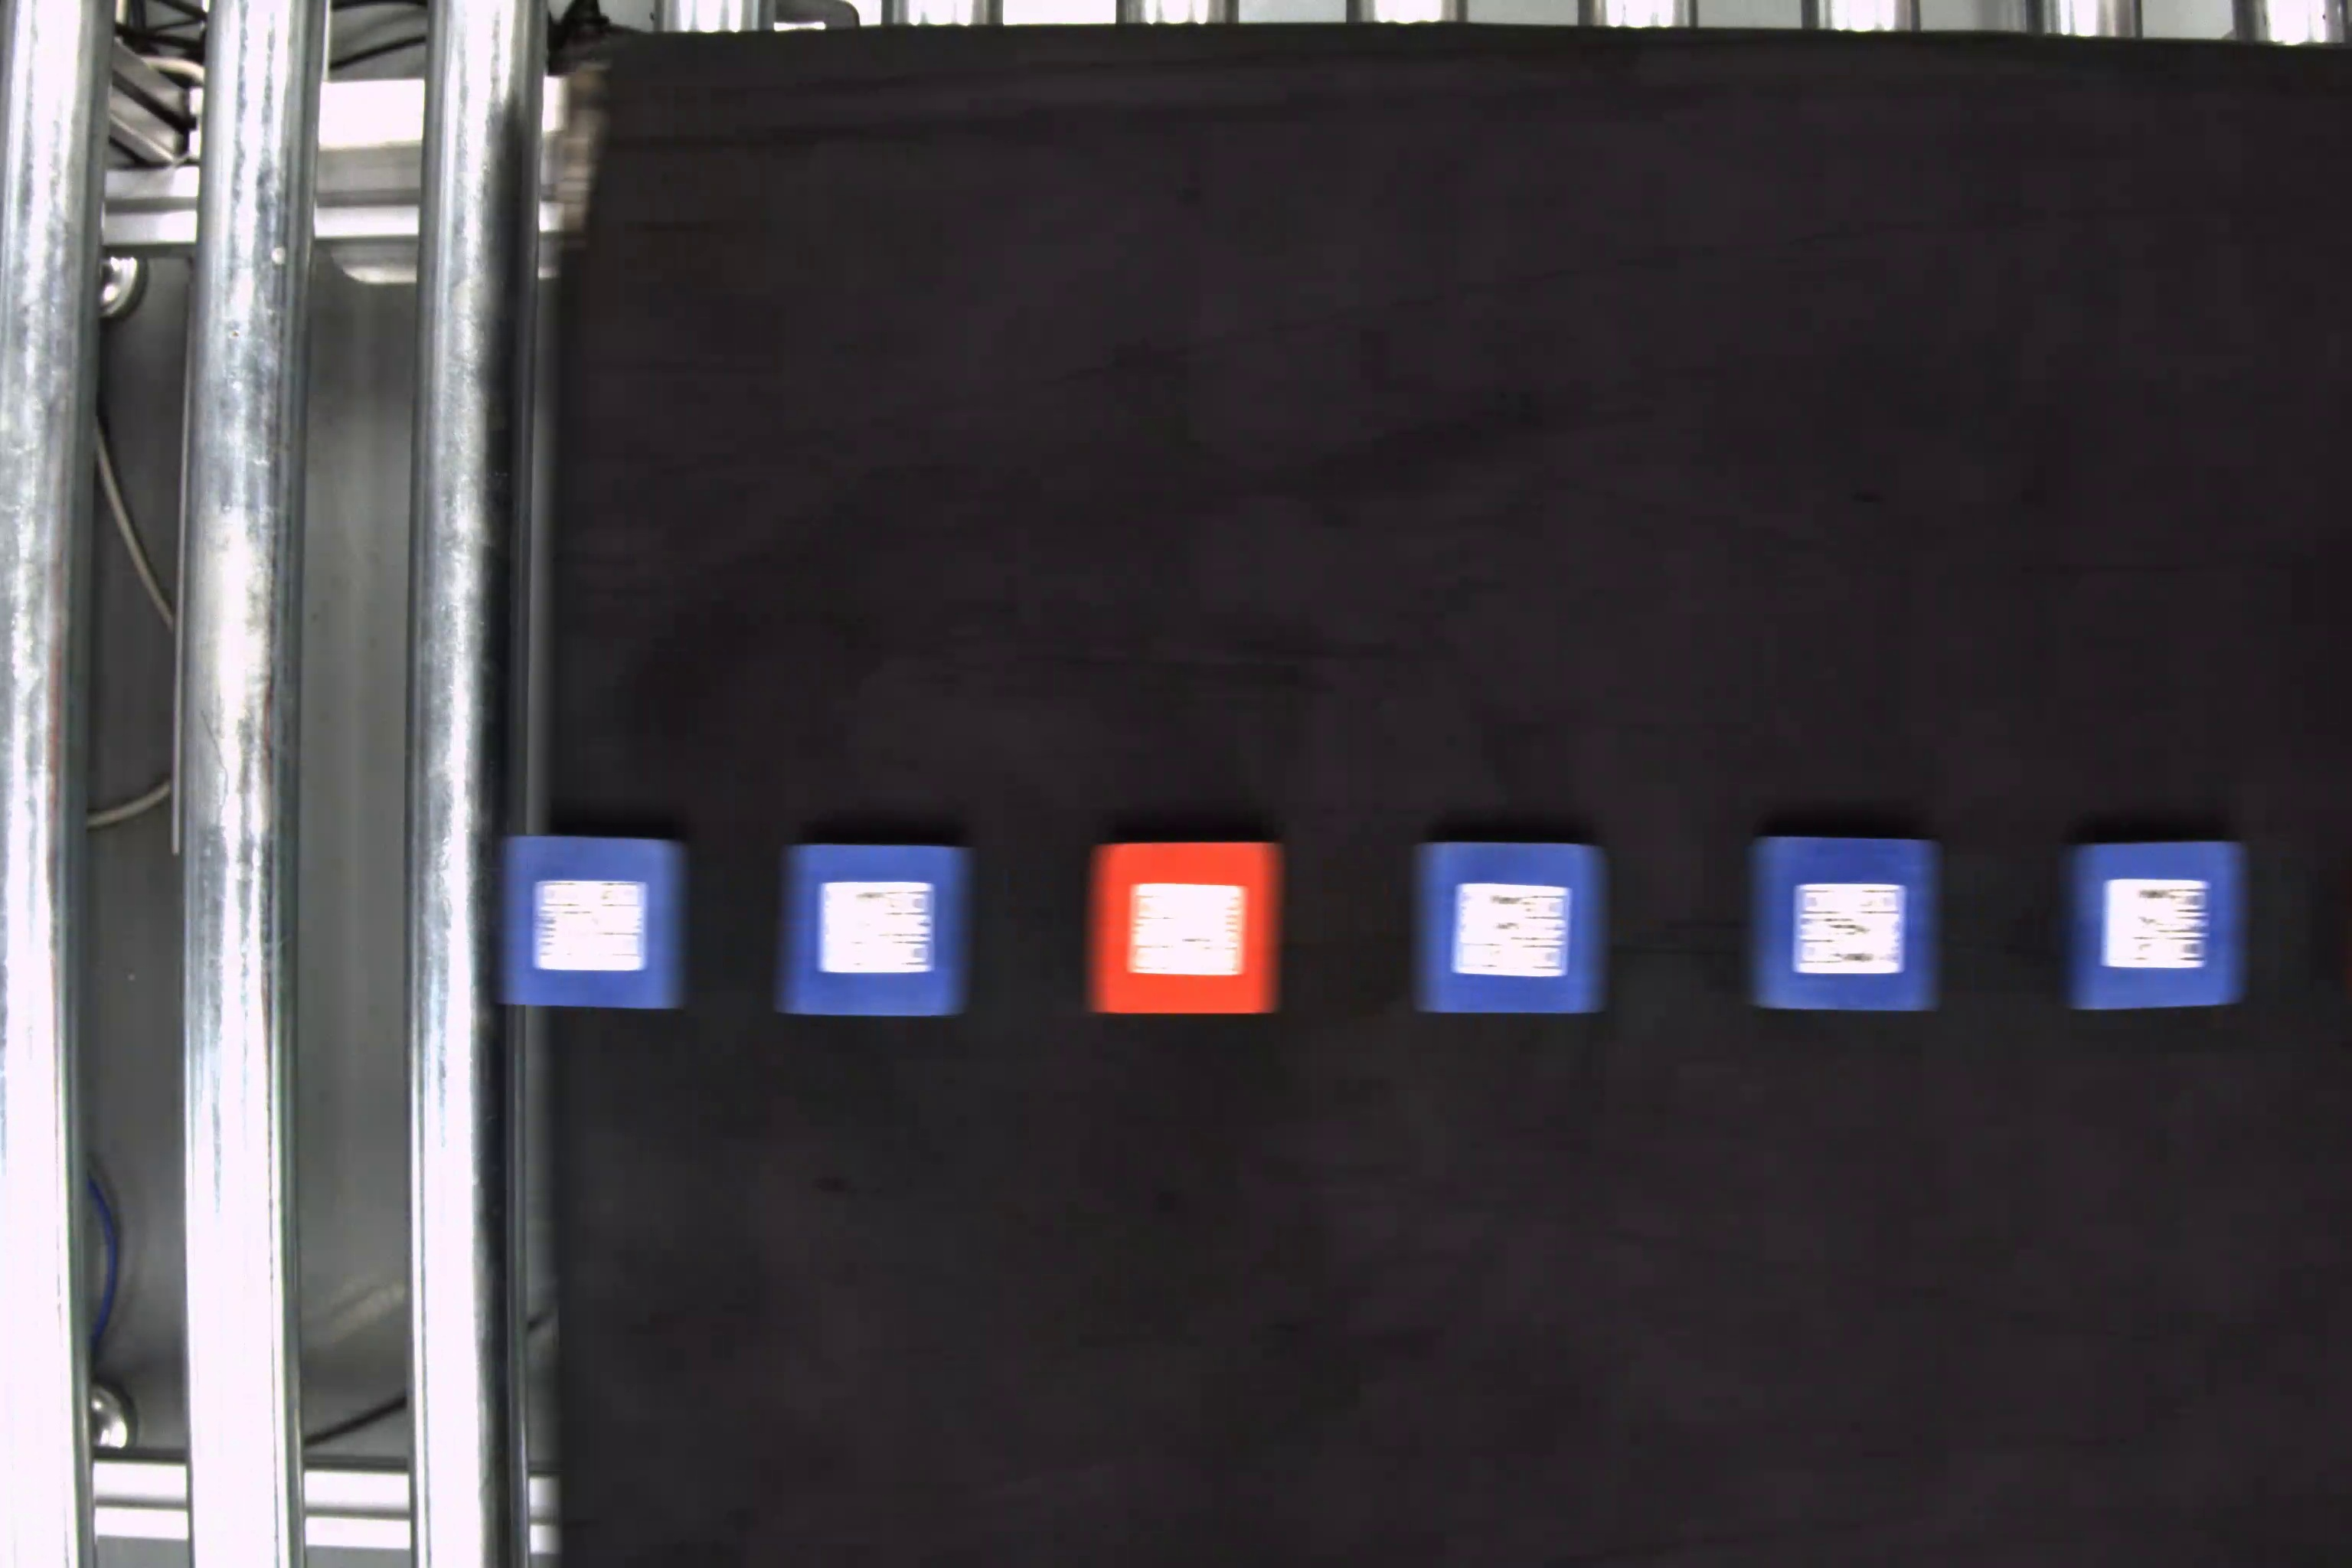wood: (1081, 835, 1286, 1017), (1750, 835, 1948, 1018), (1419, 836, 1613, 1018), (500, 831, 688, 1015), (787, 843, 976, 1011), (2070, 842, 2247, 1006)
